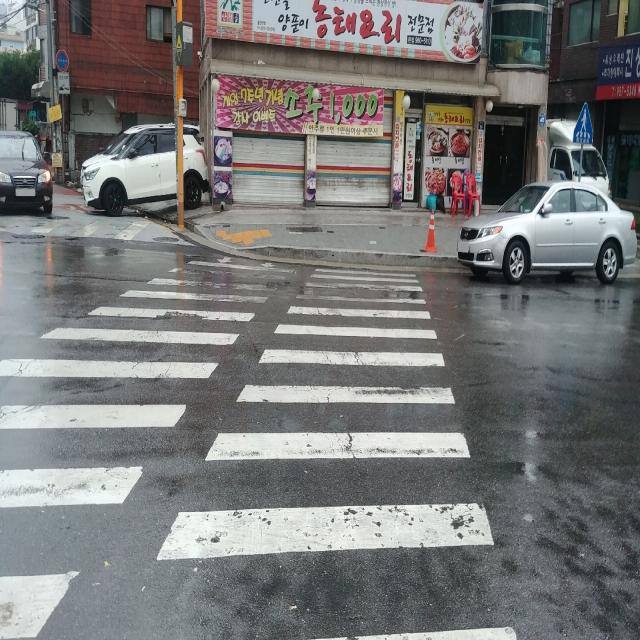횡단보도: (2, 255, 518, 640)
